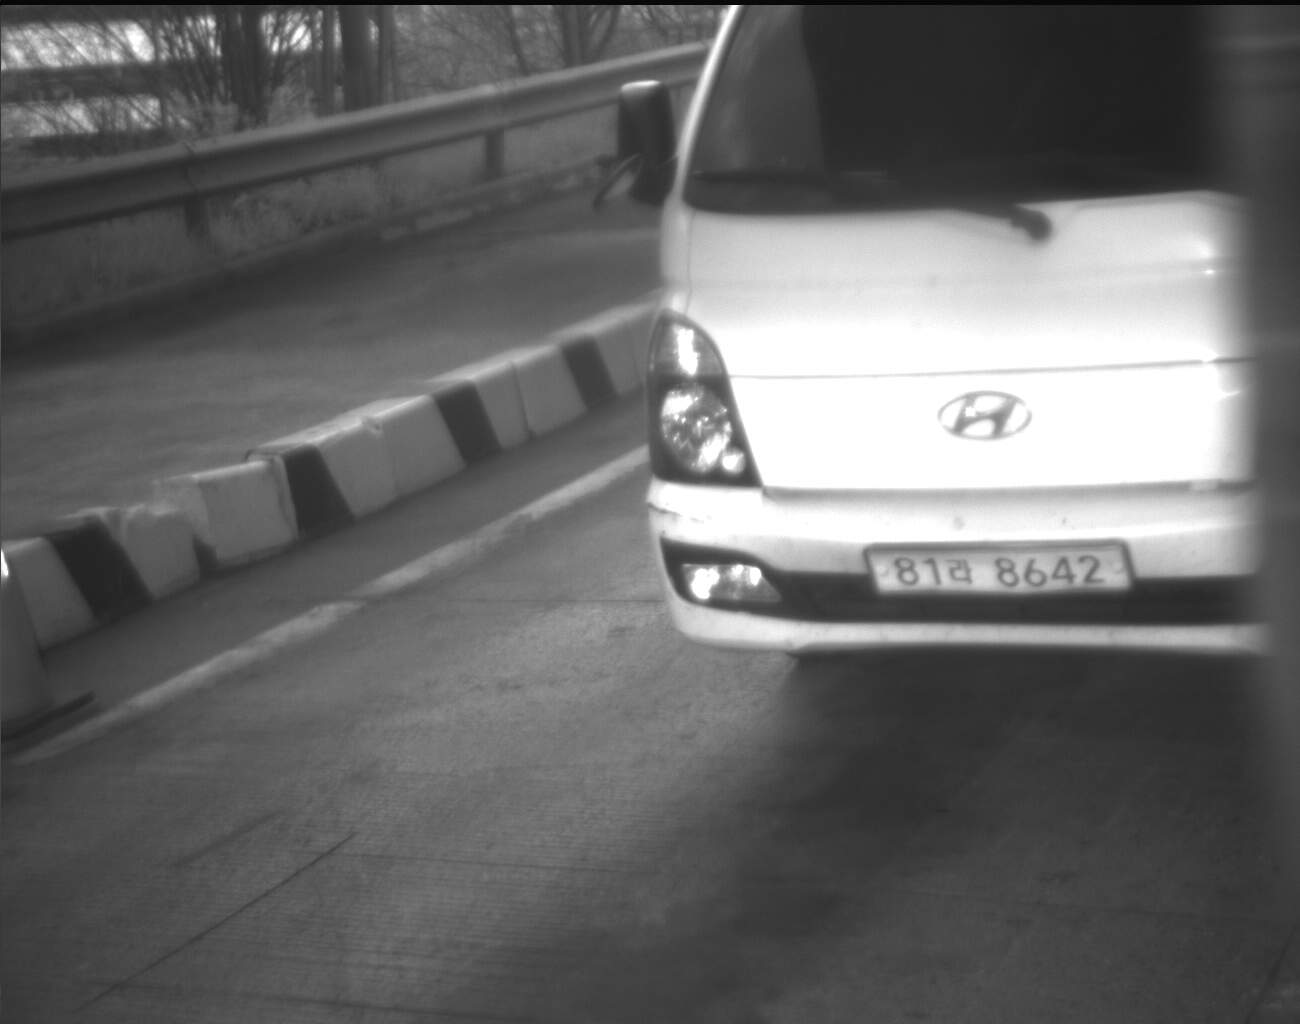car: (618, 3, 1300, 668)
plate: (860, 537, 1137, 599)
